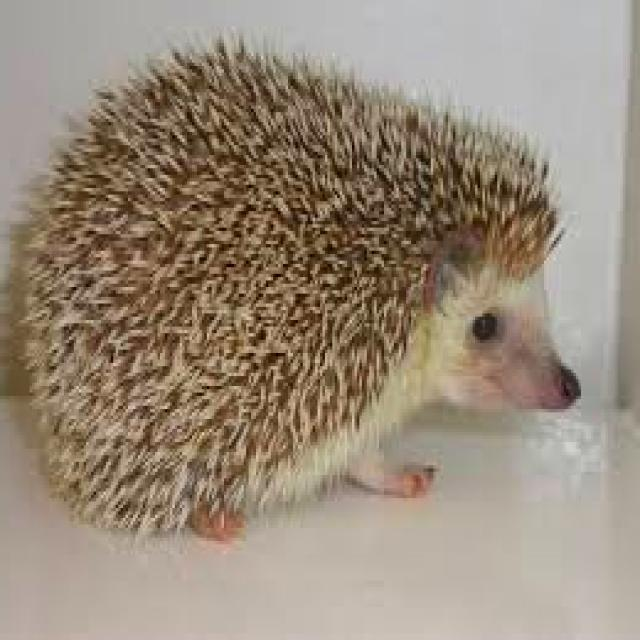hedgehog: (10, 36, 581, 538)
